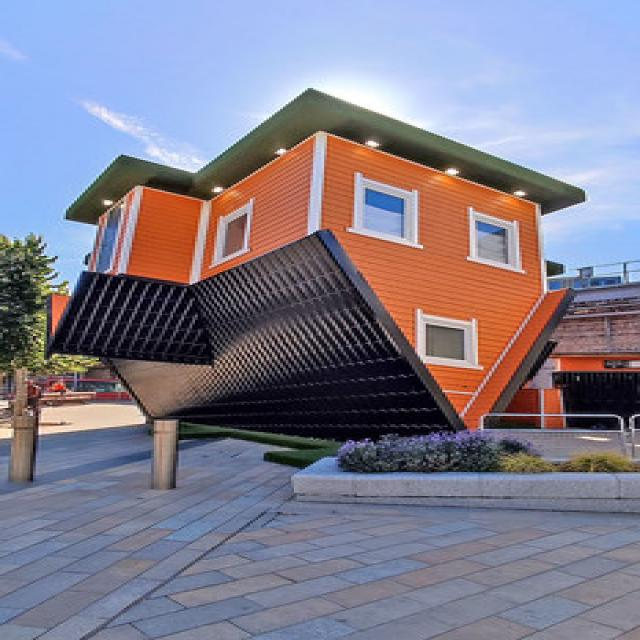Normal_building: (48, 83, 595, 466)
